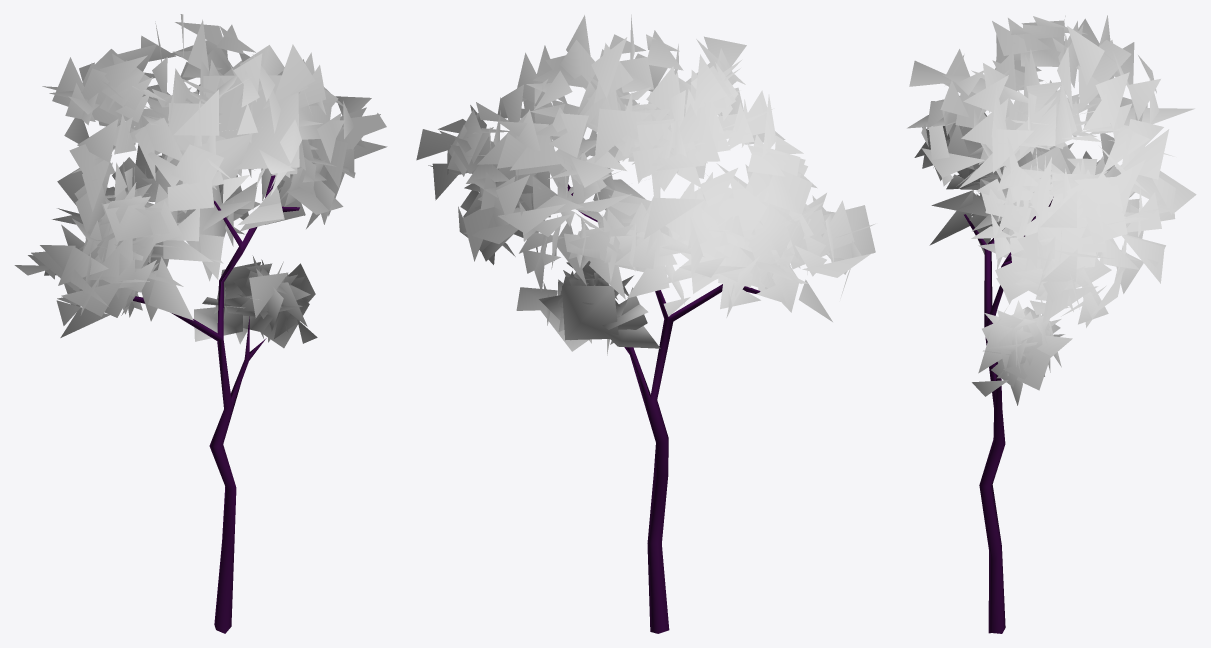
The model's file is m_TreeHigh2_LOD1.fbx.
3 views of the same model, side by side, from view 1: azimuth 30°, elevation 25°; view 2: azimuth 150°, elevation 25°; view 3: azimuth 270°, elevation 25° (orthographic). The views are drawn at different scales.
Visible parts, largest first — view 1: TreeHigh2_LOD1; view 2: TreeHigh2_LOD1; view 3: TreeHigh2_LOD1.
Boxes of the visible parts, x1,y1,x2,y2 form: TreeHigh2_LOD1: (14,14,387,633); TreeHigh2_LOD1: (416,14,875,633); TreeHigh2_LOD1: (907,15,1196,633).
Bounding box in the file's own units: 2803 × 4060 × 1763.
